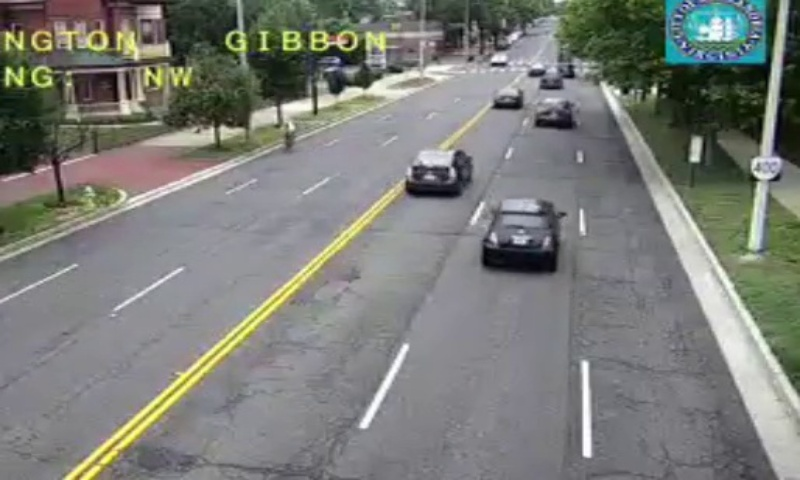car: (480, 197, 560, 259), (404, 149, 471, 190), (533, 98, 572, 127), (493, 87, 521, 106)
